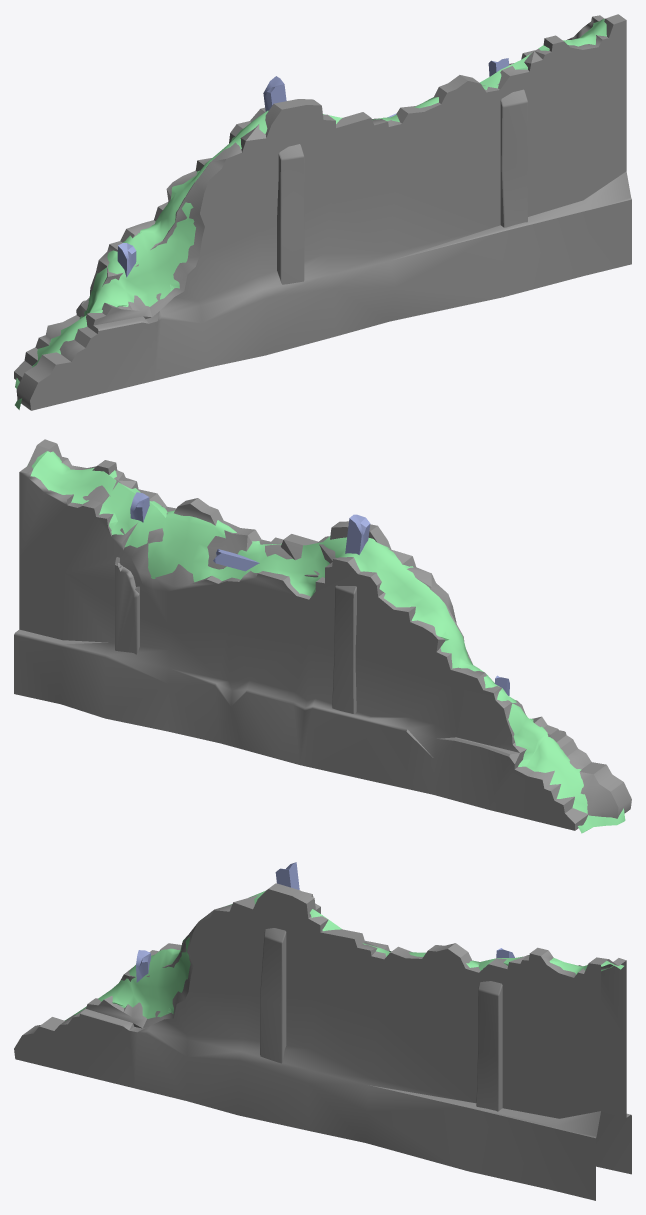
The model's file is SM_Castle_Wall_B.fbx.
3 views of the same model, one above another, from view 1: azimuth 30°, elevation 25°; view 2: azimuth 150°, elevation 25°; view 3: azimuth 330°, elevation 25° (orthographic). The views are drawn at different scales.
Visible parts, largest first — view 1: SM_Castle_Wall_B_LOD0; view 2: SM_Castle_Wall_B_LOD0; view 3: SM_Castle_Wall_B_LOD0.
Part boxes in pixels (box(x1,y1,x2,y2)): SM_Castle_Wall_B_LOD0: box(14, 14, 631, 410); SM_Castle_Wall_B_LOD0: box(14, 439, 631, 833); SM_Castle_Wall_B_LOD0: box(14, 862, 631, 1200).
Size of what is drawn, in the model's own units: 1943 by 791 by 233.
